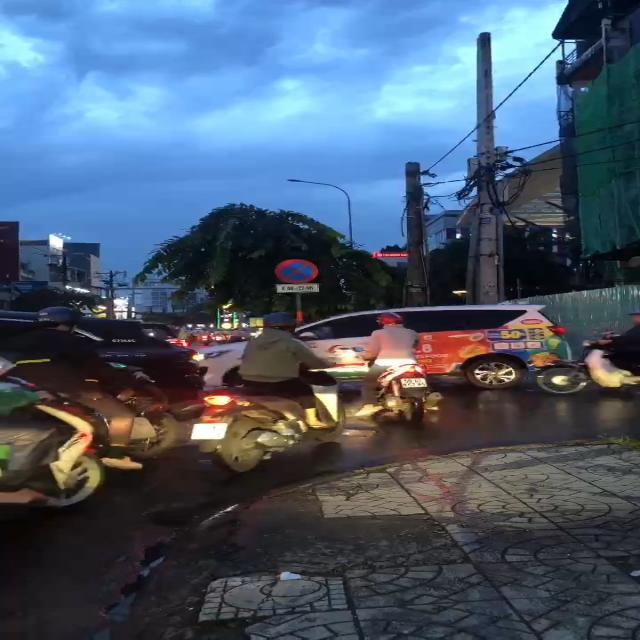Bien bao cam dung xe va do xe: (270, 258, 322, 285)
